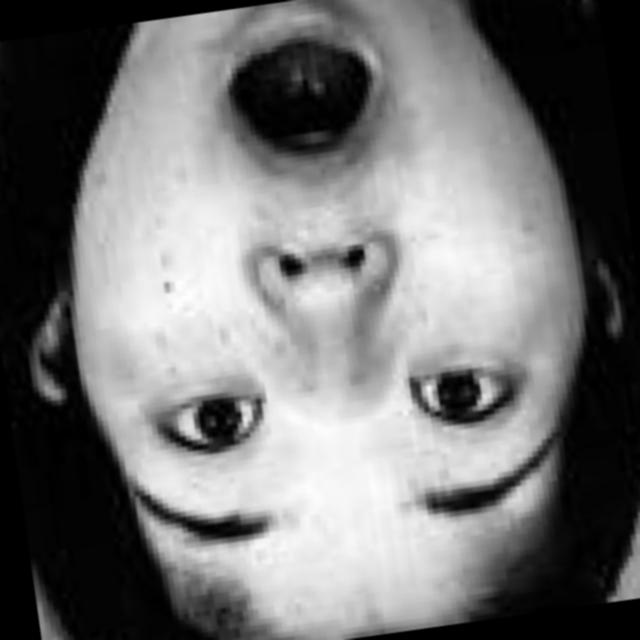surprise: (38, 0, 623, 621)
